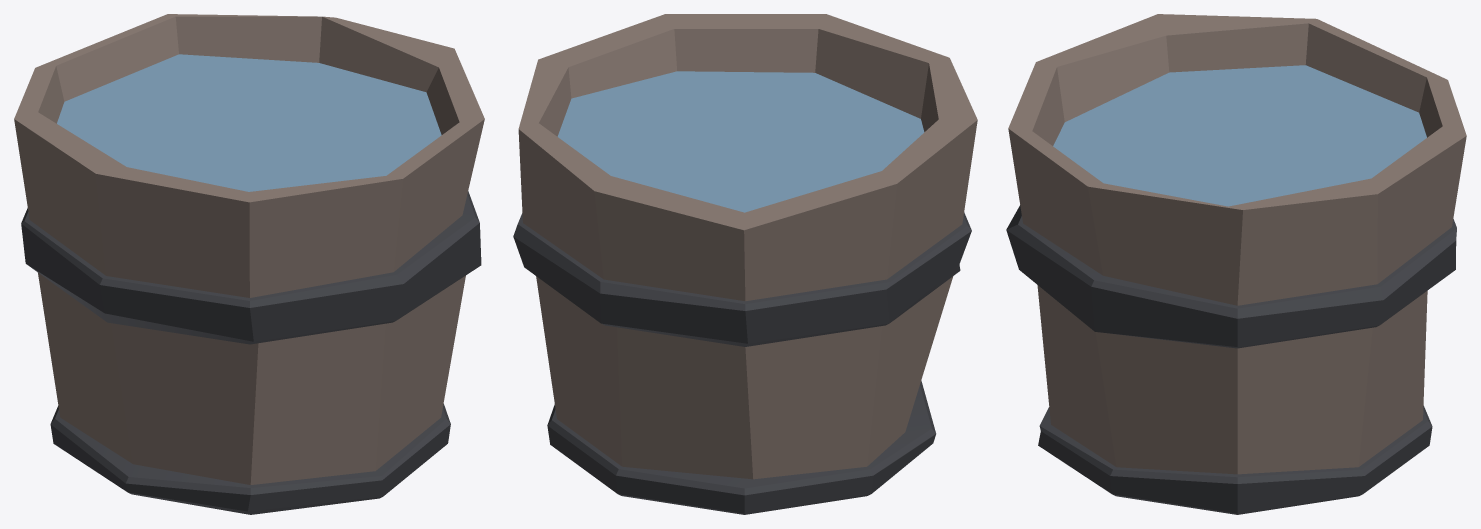
File: seau.fbx
The picture shows the model from 3 angles, left to right: view 1: azimuth 30°, elevation 25°; view 2: azimuth 150°, elevation 25°; view 3: azimuth 270°, elevation 25°; orthographic projection. The views are drawn at different scales.
Parts seen in each view (by area): view 1: Sceau; view 2: Sceau; view 3: Sceau.
Boxes of the visible parts, x1,y1,x2,y2 form: Sceau: (14,14,484,514); Sceau: (513,14,977,514); Sceau: (1006,14,1466,514).
Size of the model in its own units: 35.97 by 28.73 by 36.57.
